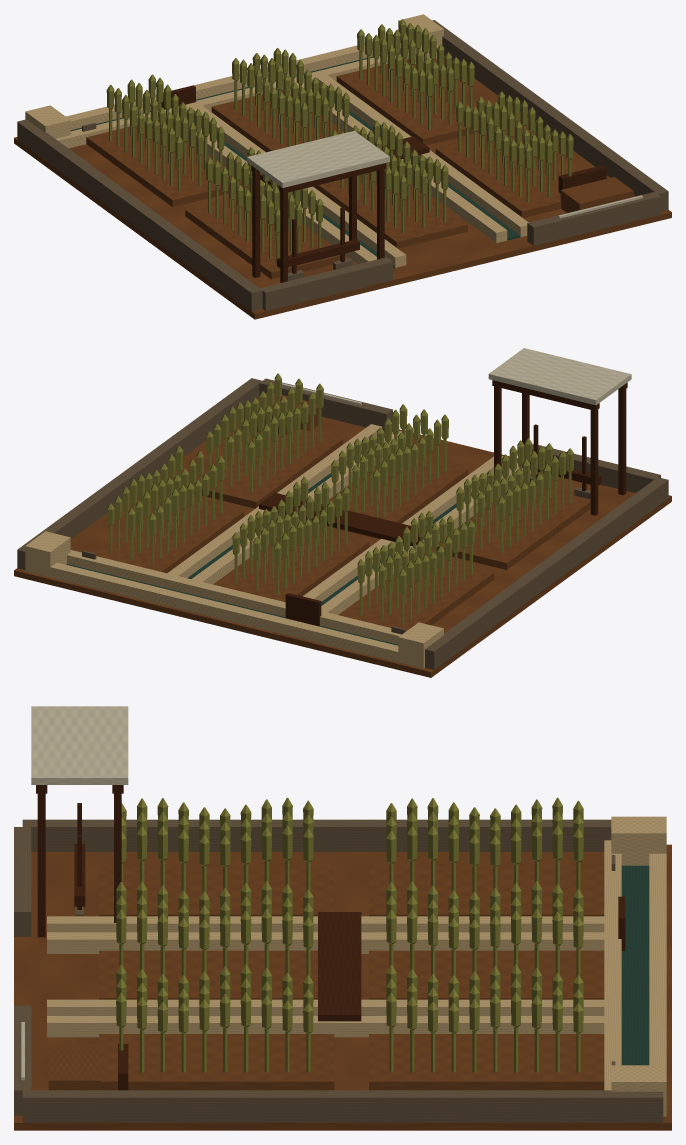
File: Berber_Farm_Age4.fbx
3 views of the same model, one above another, from view 1: azimuth 30°, elevation 25°; view 2: azimuth 150°, elevation 25°; view 3: azimuth 270°, elevation 25° (orthographic). The views are drawn at different scales.
Visible parts, largest first — view 1: flat_earth_plot, low_side_edging, low_side_edging.001, woven_tool_shade, raised_bed_0_1, raised_bed_2_1, raised_bed_2_0, raised_bed_1_0, raised_bed_0_0, south_edge_open_entry, south_edge_open_entry.001, branch_channel_bank.003 (+17 smaller); view 2: flat_earth_plot, low_side_edging, header_channel_bank.001, low_side_edging.001, woven_tool_shade, header_channel_bank, raised_bed_0_0, raised_bed_2_0, raised_bed_2_1, raised_bed_0_1, raised_bed_1_1, raised_bed_1_0 (+15 smaller); view 3: flat_earth_plot, low_side_edging.001, low_side_edging, raised_bed_2_1, raised_bed_2_0, raised_bed_1_1, raised_bed_0_1, raised_bed_0_0, woven_tool_shade, raised_bed_1_0, branch_channel_bank.003, branch_channel_bank.001 (+13 smaller).
Boxes of the visible parts, x1,y1,x2,y2 form: flat_earth_plot: (14,57,671,319); low_side_edging: (17,119,262,311); low_side_edging.001: (432,20,668,211); woven_tool_shade: (247,131,389,187); raised_bed_0_1: (86,120,243,206); raised_bed_2_1: (336,59,494,145); raised_bed_2_0: (435,131,565,217); raised_bed_1_0: (313,167,467,248); raised_bed_0_0: (185,195,340,279); south_edge_open_entry: (260,257,392,310); south_edge_open_entry.001: (527,192,660,245); branch_channel_bank.003: (317,75,528,236); flat_earth_plot: (14,417,671,677); low_side_edging: (425,477,668,669); header_channel_bank.001: (30,562,418,666); low_side_edging.001: (17,378,262,569); woven_tool_shade: (488,348,631,405); header_channel_bank: (67,550,401,644); raised_bed_0_0: (436,483,590,569); raised_bed_2_0: (188,427,342,508); raised_bed_2_1: (93,497,243,573); raised_bed_0_1: (340,555,494,631); raised_bed_1_1: (215,528,369,602); raised_bed_1_0: (311,456,467,539); flat_earth_plot: (14,844,671,1130); low_side_edging.001: (22,1090,663,1122); low_side_edging: (22,819,611,851); raised_bed_2_1: (369,1034,604,1090); raised_bed_2_0: (99,1034,334,1090); raised_bed_1_1: (369,950,604,999); raised_bed_0_1: (369,867,604,916); raised_bed_0_0: (99,867,334,916); woven_tool_shade: (31,706,128,784); raised_bed_1_0: (99,950,317,999); branch_channel_bank.003: (47,1016,604,1037); branch_channel_bank.001: (47,932,604,953).
Bounding box in the file's own units: 380 × 108 × 380.
7 materials, 7 textured.
